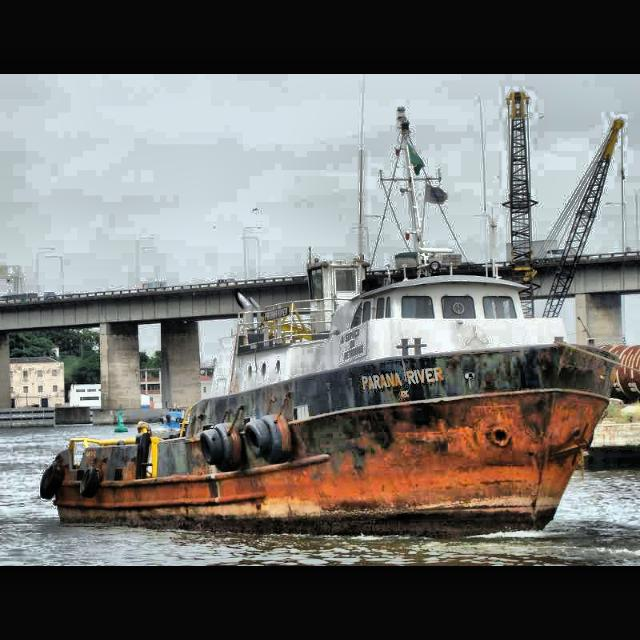anchor_handling_tug_supply: (39, 246, 623, 542)
